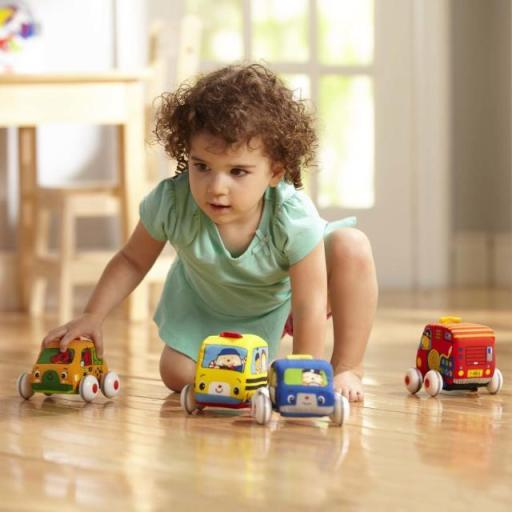baby: (43, 68, 379, 404)
